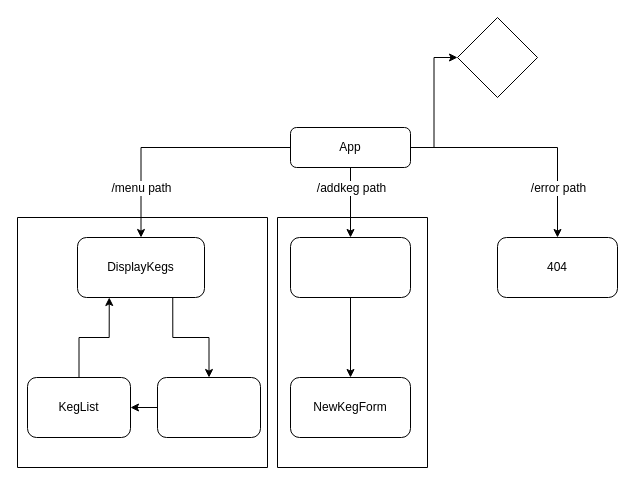
The diagram is 635 pixels wide and 486 high, and some of its shapes have lost their labels. Each missing label, with the centre of its shape:
"AddKeg" belongs at (350,267).
"Header" belongs at (497,57).
"Keg" belongs at (208,407).
